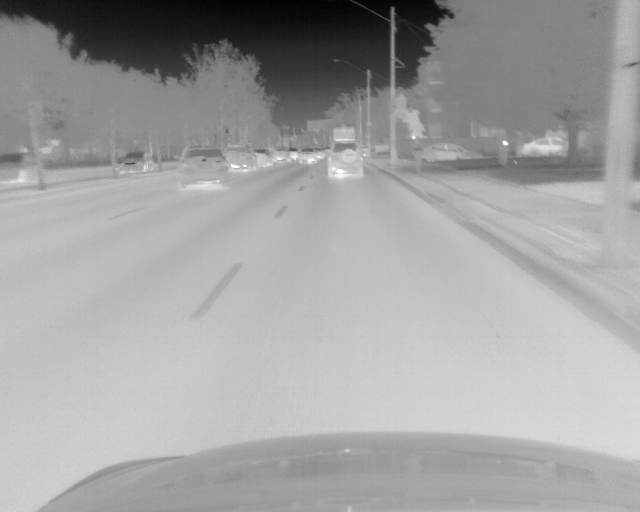car: (174, 146, 227, 189), (329, 124, 361, 178), (1, 151, 46, 189), (514, 135, 574, 161), (412, 142, 480, 164), (114, 151, 153, 177), (224, 143, 256, 171), (254, 149, 272, 170), (298, 147, 315, 165), (273, 146, 289, 165), (288, 148, 298, 162)
